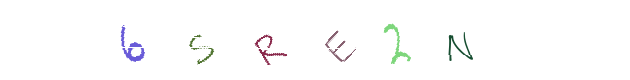2: (326, 0, 406, 80)
6: (91, 0, 171, 80)
E: (275, 0, 355, 80)
N: (339, 0, 419, 80)
R: (263, 0, 343, 80)
S: (257, 0, 337, 80)
